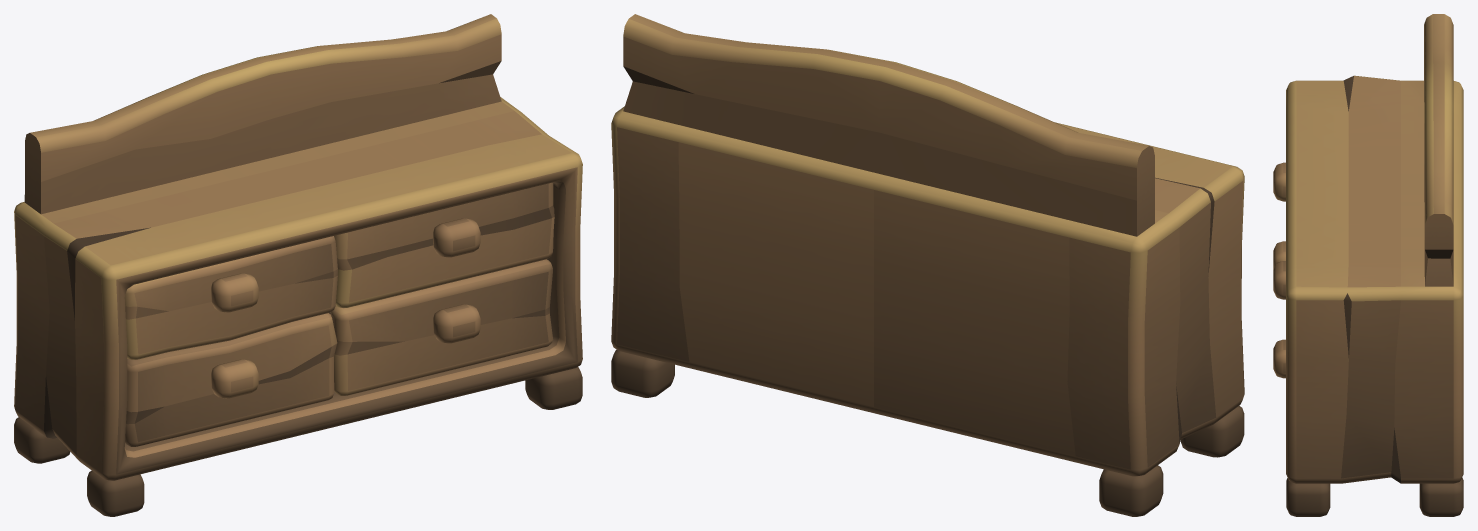
File: tavern_dresser.fbx
3 renders of one model, left to right at view 1: azimuth 30°, elevation 25°; view 2: azimuth 150°, elevation 25°; view 3: azimuth 270°, elevation 25°, orthographic. The views are drawn at different scales.
Parts seen in each view (by area): view 1: tavern_dresser_LOD0; view 2: tavern_dresser_LOD0; view 3: tavern_dresser_LOD0.
Boxes of the visible parts, left/top/right/bottom form: tavern_dresser_LOD0: left=14, top=14, right=582, bottom=516; tavern_dresser_LOD0: left=611, top=14, right=1244, bottom=516; tavern_dresser_LOD0: left=1273, top=14, right=1463, bottom=516.
Size of what is drawn, in the model's own units: 201 by 137 by 75.14.
